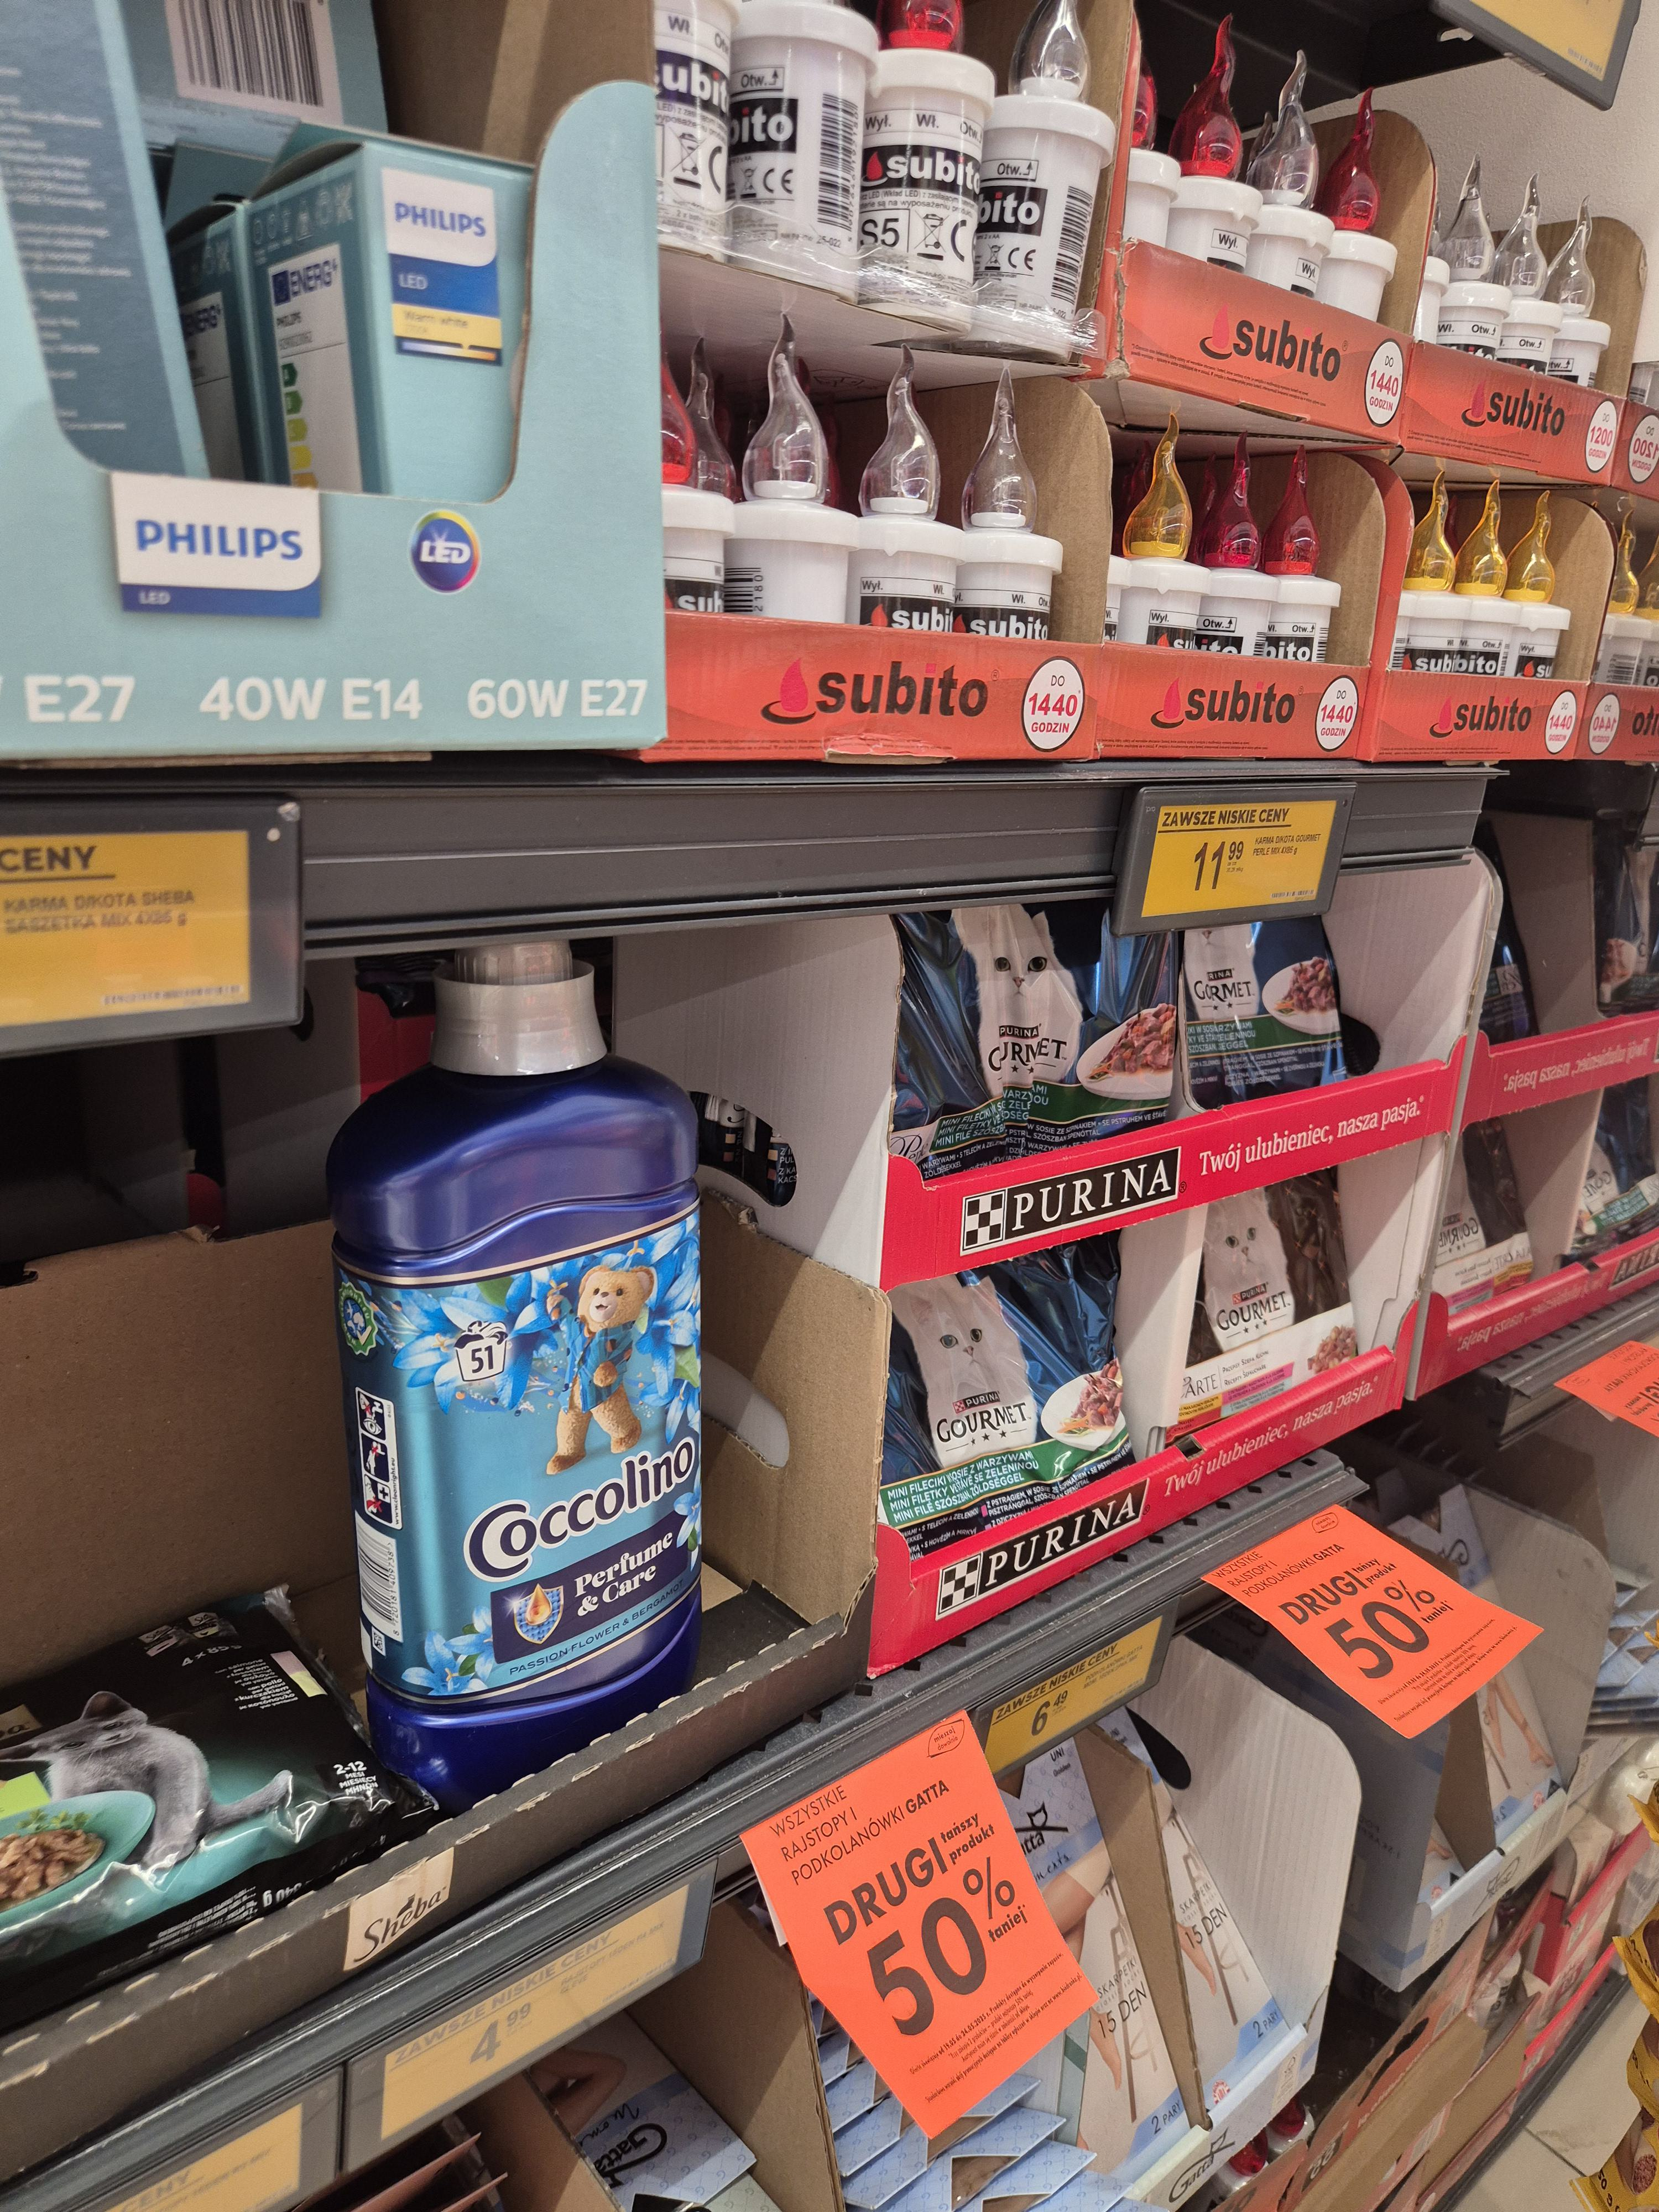cocolino: (335, 927, 749, 1766)
